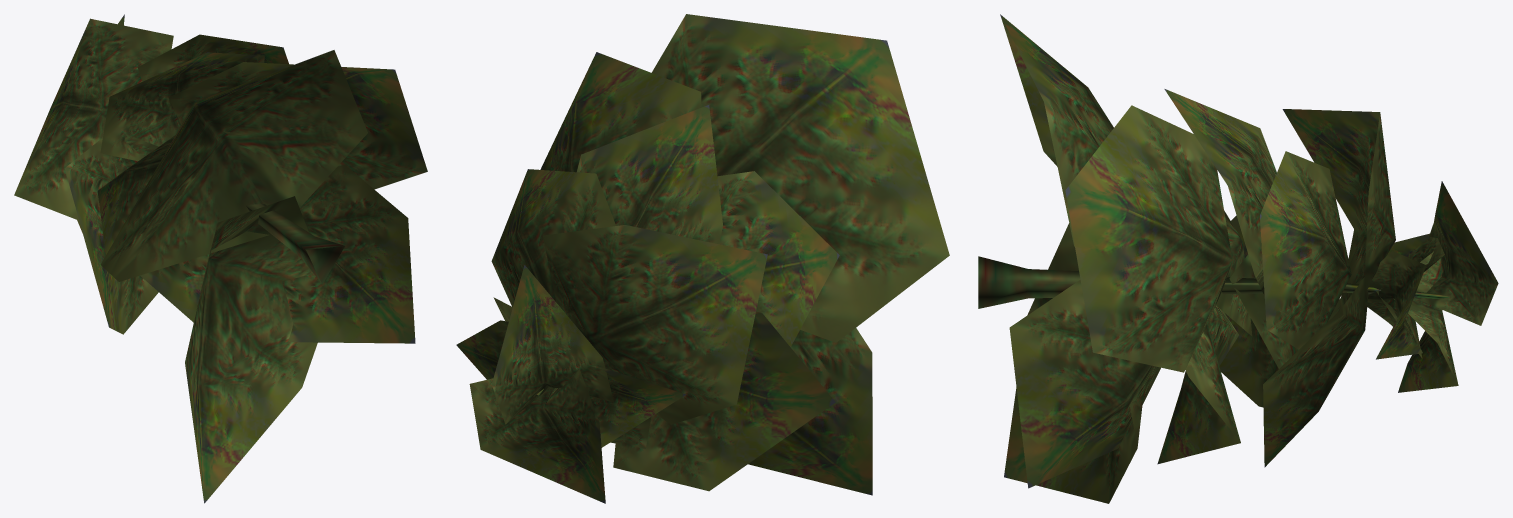
Rendered from Hogweed_Big.fbx.
3 views of the same model, side by side, from view 1: azimuth 30°, elevation 25°; view 2: azimuth 150°, elevation 25°; view 3: azimuth 270°, elevation 25° (orthographic). The views are drawn at different scales.
Parts seen in each view (by area): view 1: Hogweed_Big; view 2: Hogweed_Big; view 3: Hogweed_Big.
Part boxes in pixels (x1,y1,x2,y2): Hogweed_Big: [14, 14, 427, 503]; Hogweed_Big: [456, 14, 949, 503]; Hogweed_Big: [978, 14, 1498, 503].
Size of the model in its own units: 4.2 by 4.67 by 4.81.
